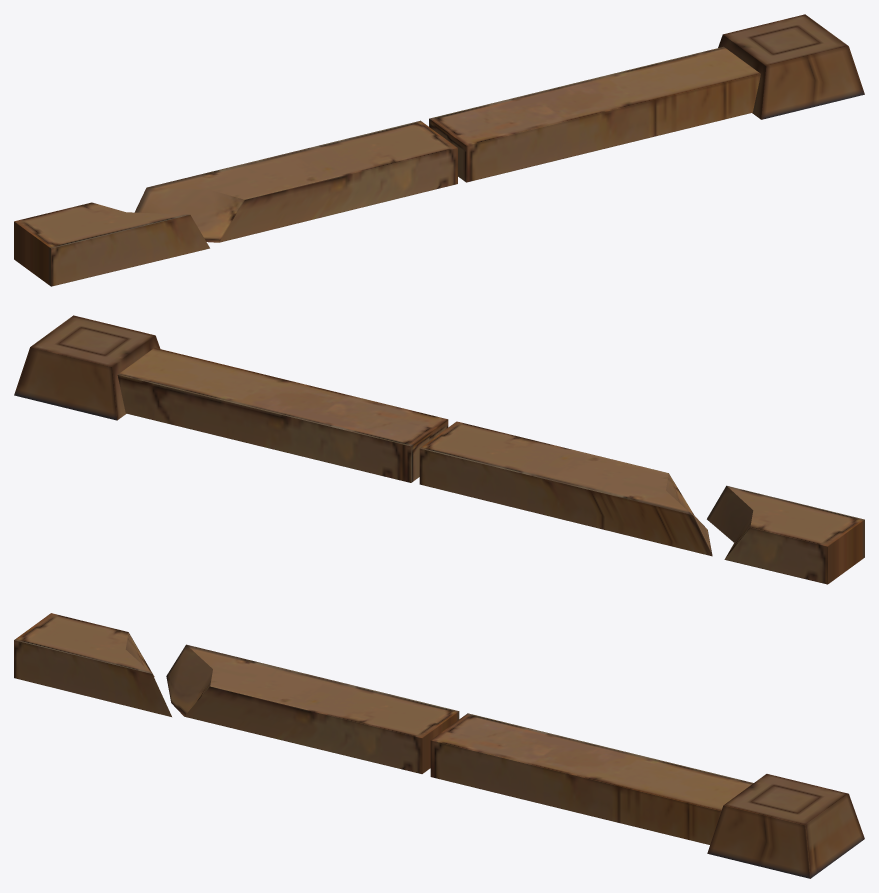
The model's file is DG_DaoYaZi_01.FBX.
3 views of the same model, one above another, from view 1: azimuth 30°, elevation 25°; view 2: azimuth 150°, elevation 25°; view 3: azimuth 330°, elevation 25° (orthographic).
Parts seen in each view (by area): view 1: DG_DaoYaZi_01_01, DG_DaoYaZi_01_02, DG_DaoYaZi_01_04, DG_DaoYaZi_01_03; view 2: DG_DaoYaZi_01_01, DG_DaoYaZi_01_02, DG_DaoYaZi_01_04, DG_DaoYaZi_01_03; view 3: DG_DaoYaZi_01_01, DG_DaoYaZi_01_02, DG_DaoYaZi_01_03, DG_DaoYaZi_01_04.
Boxes of the visible parts, <box> form: DG_DaoYaZi_01_01: <box>429,46,760,182</box>; DG_DaoYaZi_01_02: <box>134,120,457,242</box>; DG_DaoYaZi_01_04: <box>14,202,209,286</box>; DG_DaoYaZi_01_03: <box>718,14,864,119</box>; DG_DaoYaZi_01_01: <box>117,347,448,482</box>; DG_DaoYaZi_01_02: <box>419,421,712,556</box>; DG_DaoYaZi_01_04: <box>707,485,864,584</box>; DG_DaoYaZi_01_03: <box>14,315,160,420</box>; DG_DaoYaZi_01_01: <box>430,713,753,844</box>; DG_DaoYaZi_01_02: <box>166,644,459,773</box>; DG_DaoYaZi_01_03: <box>707,774,864,878</box>; DG_DaoYaZi_01_04: <box>14,613,171,716</box>.
Bounding box in the file's own units: 680 × 38.67 × 79.89.
1 material, 1 textured.
